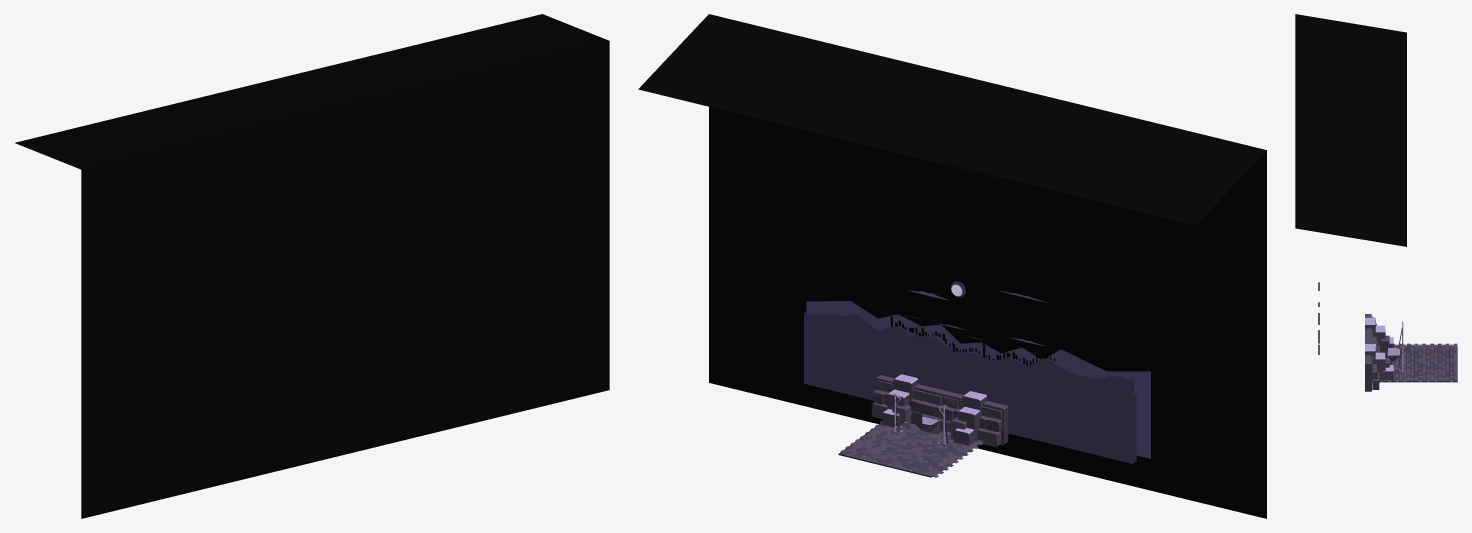
The model's file is StoneCg_v3q.fbx.
3 renders of one model, left to right at view 1: azimuth 30°, elevation 25°; view 2: azimuth 150°, elevation 25°; view 3: azimuth 270°, elevation 25°, orthographic. The views are drawn at different scales.
Parts seen in each view (by area): view 1: far_sky, far_sky_overhead; view 2: far_sky, far_sky_overhead, city_foreground_hill, far_ridge_back, floor_ext_pavers_a, floor_ext_pavers_b, floor_pavers, mid_wall_recess; view 3: far_sky_overhead, floor_ext_pavers_a, floor_ext_pavers_b, floor_pavers, mid_wall_recess, floor_ext_substrate, mid_shoulder_left_1.
Part boxes in pixels (x1,y1,x2,y2): far_sky: (81, 41, 609, 518); far_sky_overhead: (15, 14, 609, 169); far_sky: (709, 107, 1266, 518); far_sky_overhead: (638, 14, 1266, 225); city_foreground_hill: (804, 312, 1133, 463); far_ridge_back: (806, 301, 1150, 458); floor_ext_pavers_a: (850, 430, 968, 467); floor_ext_pavers_b: (840, 445, 948, 477); floor_pavers: (870, 421, 983, 453); mid_wall_recess: (875, 375, 1008, 445); far_sky_overhead: (1295, 14, 1406, 246); floor_ext_pavers_a: (1407, 343, 1437, 381); floor_ext_pavers_b: (1438, 343, 1457, 381); floor_pavers: (1379, 343, 1406, 381); mid_wall_recess: (1365, 314, 1371, 391); floor_ext_substrate: (1407, 346, 1457, 382); mid_shoulder_left_1: (1374, 352, 1385, 379).
Size of the model in its own units: 372 by 235 by 119.
